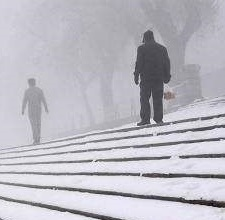person: (132, 30, 173, 127), (20, 77, 51, 146)
